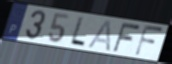3: (24, 9, 47, 41)
5: (47, 11, 71, 44)
A: (86, 19, 113, 53)
F: (133, 24, 165, 58), (111, 22, 142, 53)
L: (68, 16, 87, 49)
